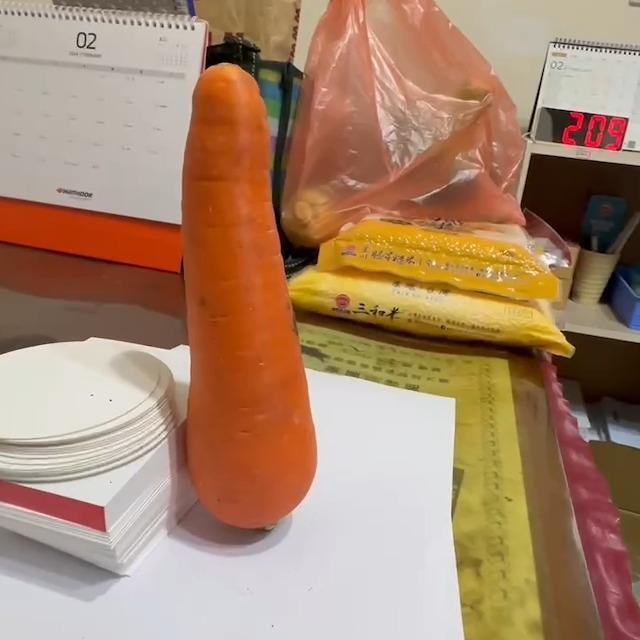carrot: (181, 63, 318, 531)
